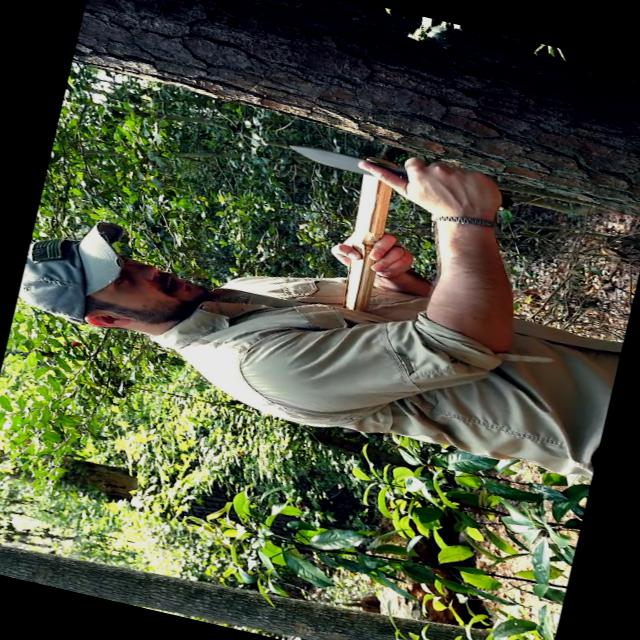knife: (276, 122, 496, 216)
